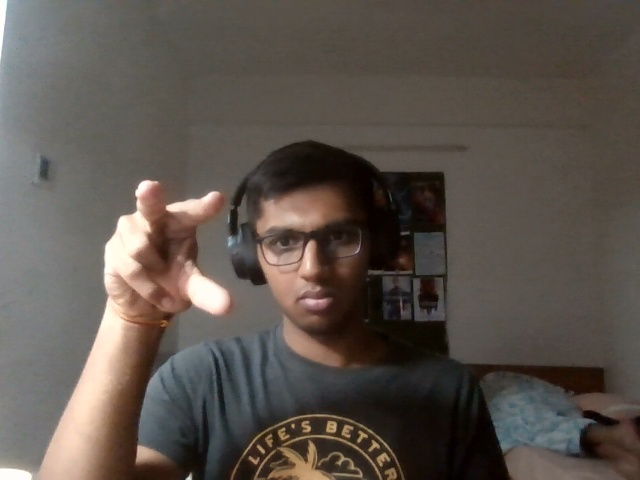no: (79, 174, 244, 343)
